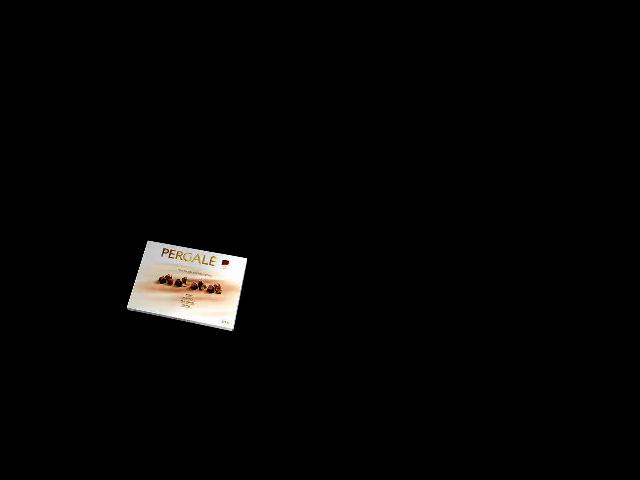chocolate: (132, 241, 242, 335)
